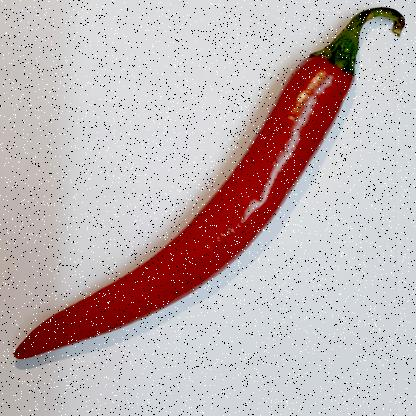chili: (13, 6, 404, 359)
